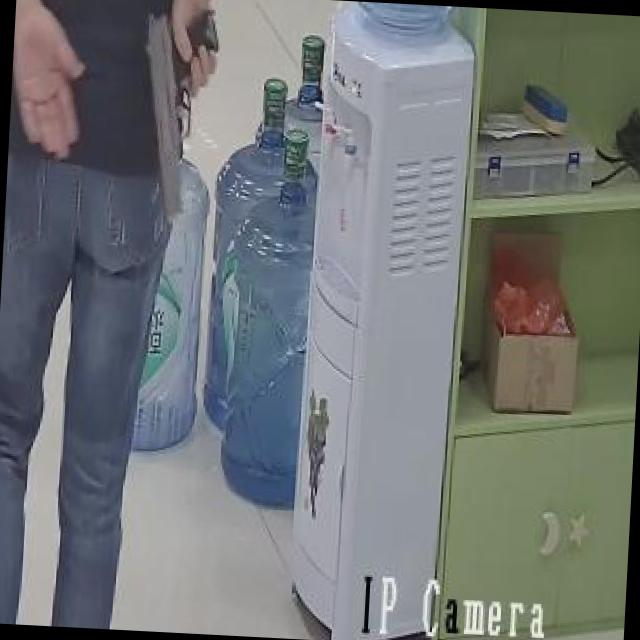Guns: (120, 0, 225, 235)
